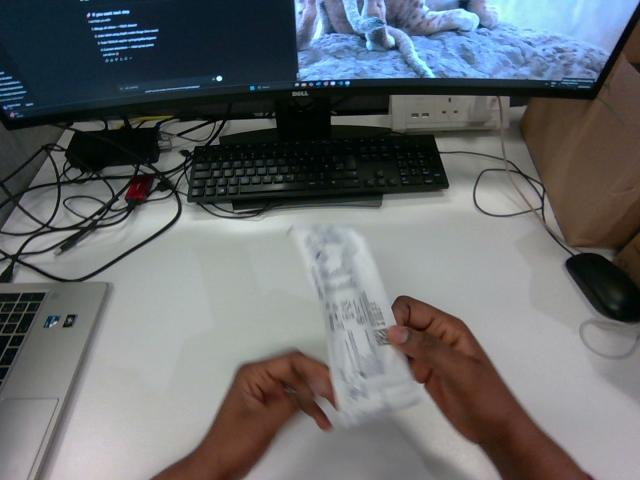syringe: (290, 225, 425, 425)
